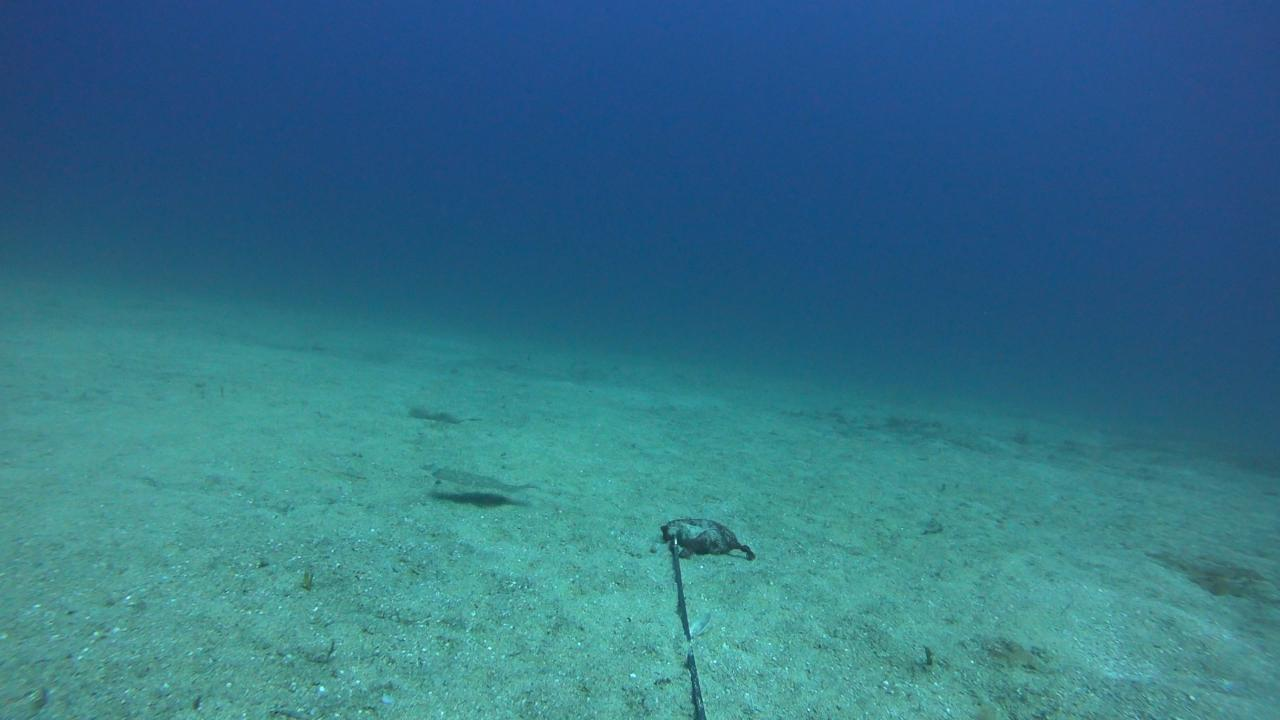bothus: (416, 453, 544, 508)
